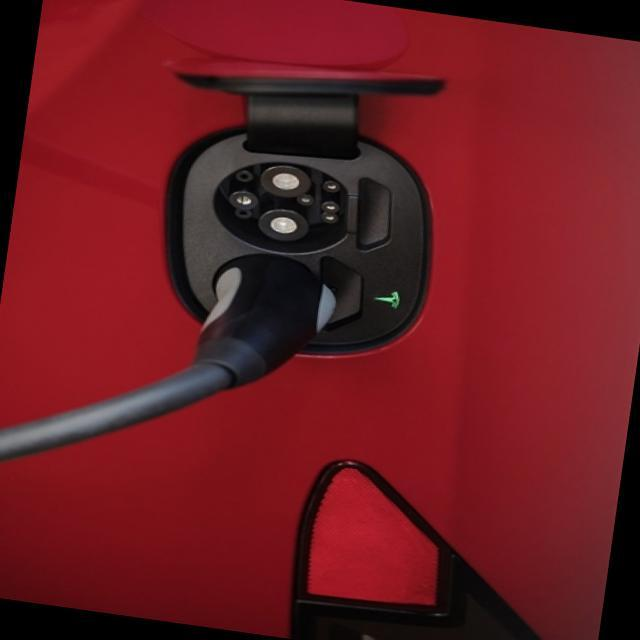GB-T: (172, 127, 398, 274)
